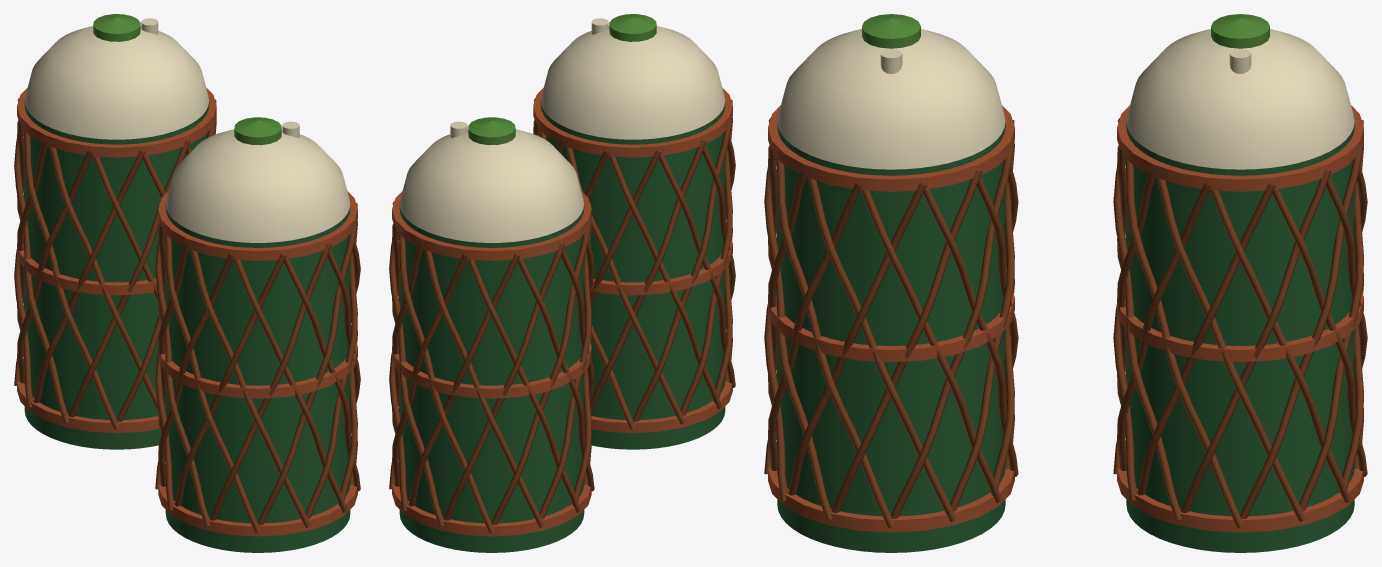
The picture shows the model from 3 angles, left to right: view 1: azimuth 30°, elevation 25°; view 2: azimuth 150°, elevation 25°; view 3: azimuth 270°, elevation 25°; orthographic projection. The views are drawn at different scales.
Visible parts, largest first — view 1: u500_o2; view 2: u500_o2; view 3: u500_o2.
Boxes of the visible parts, x1,y1,x2,y2 form: u500_o2: [14, 14, 360, 552]; u500_o2: [389, 14, 735, 552]; u500_o2: [764, 14, 1367, 552].
Bounding box in the file's own units: 1.89 × 4 × 4.49.
